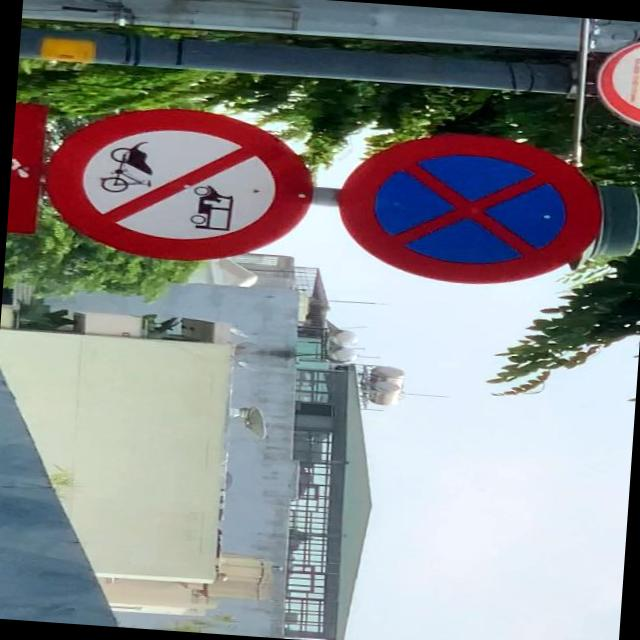P-130: (332, 128, 604, 290)
